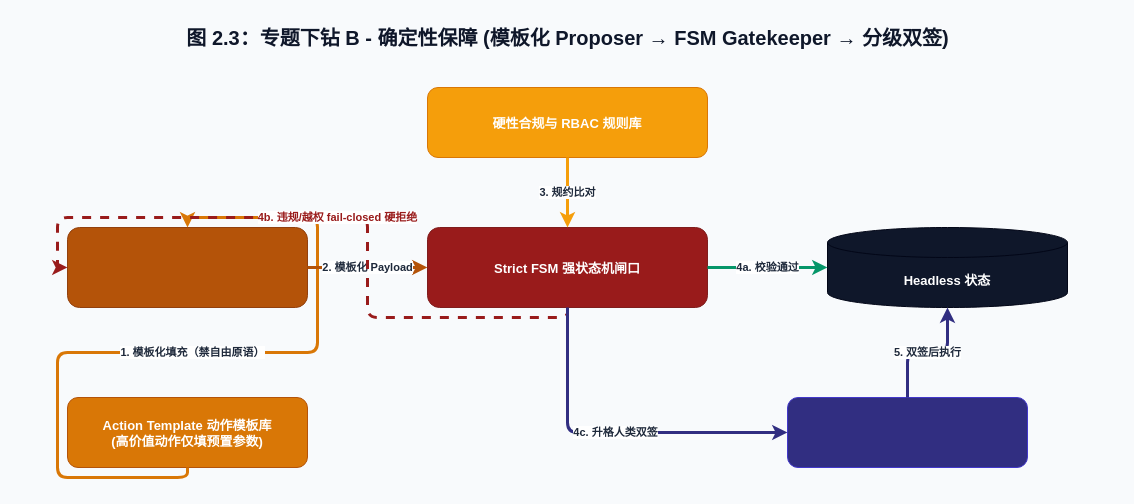
Some shapes in this 1134 by 504 pixel diagram are drawn without their labels. The centre of each missing label's shape, as x and y in pixels:
"Agent 方案提议者 (Proposer)" goes at point (187, 267).
"Human 双签确认 (L2/L3 · 资金/合同/人事)" goes at point (907, 432).
